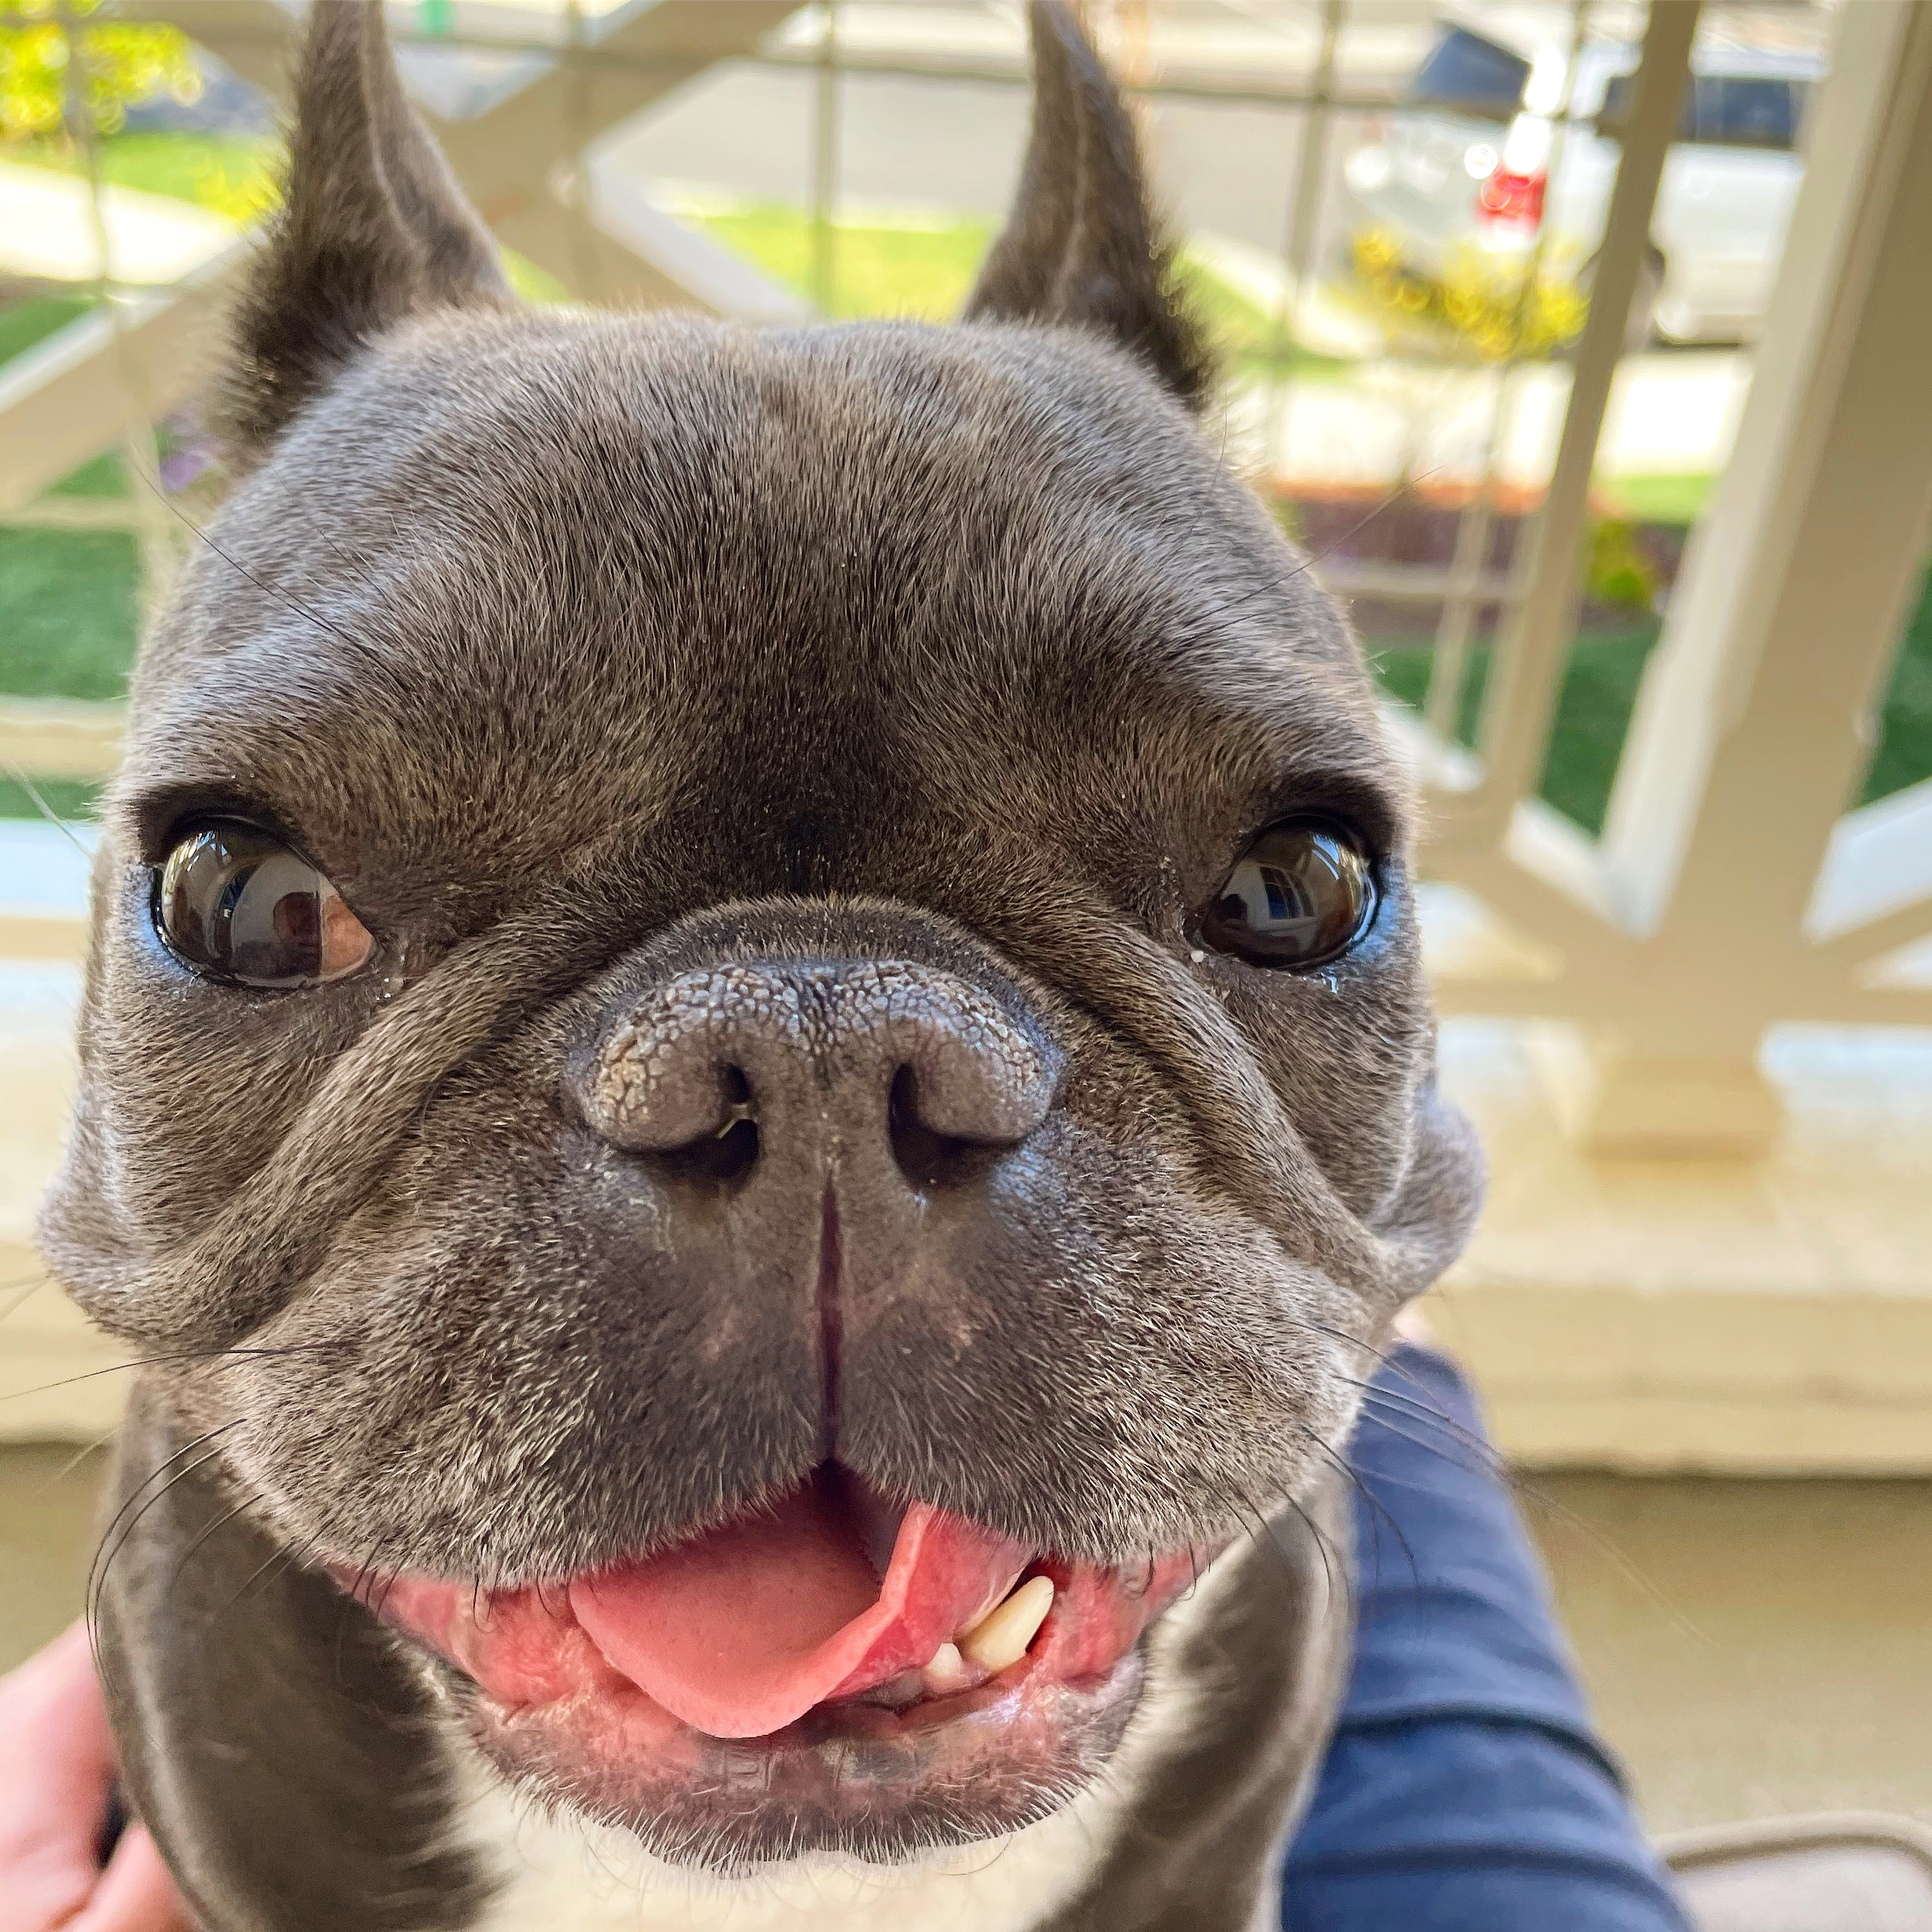lucy: (55, 19, 1484, 1875)
